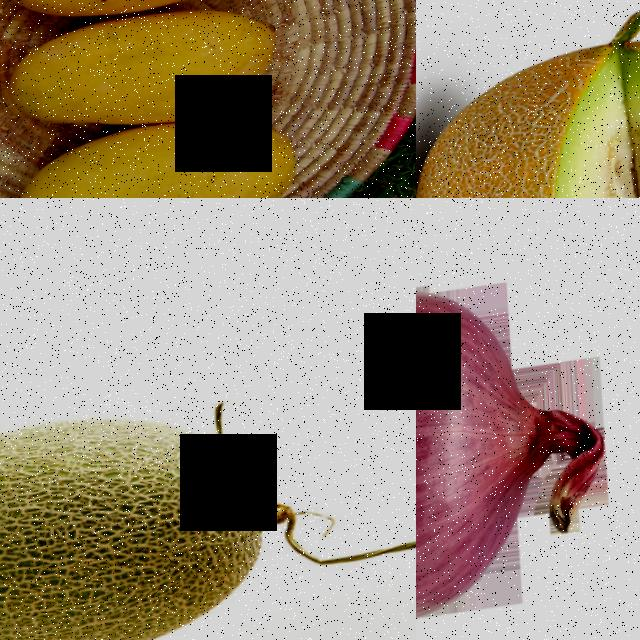mango: (0, 4, 283, 147), (4, 116, 296, 198), (0, 0, 279, 34)
melon: (0, 404, 271, 640), (510, 10, 640, 198)
onion: (416, 267, 597, 640)
